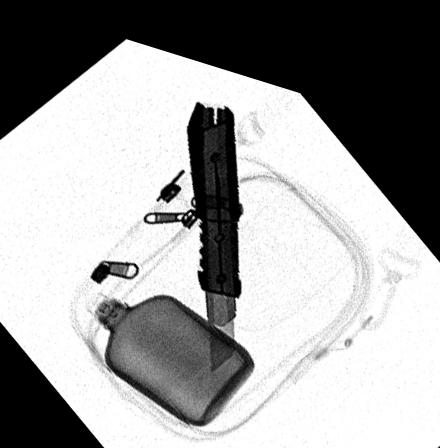Knife: (184, 87, 245, 362)
